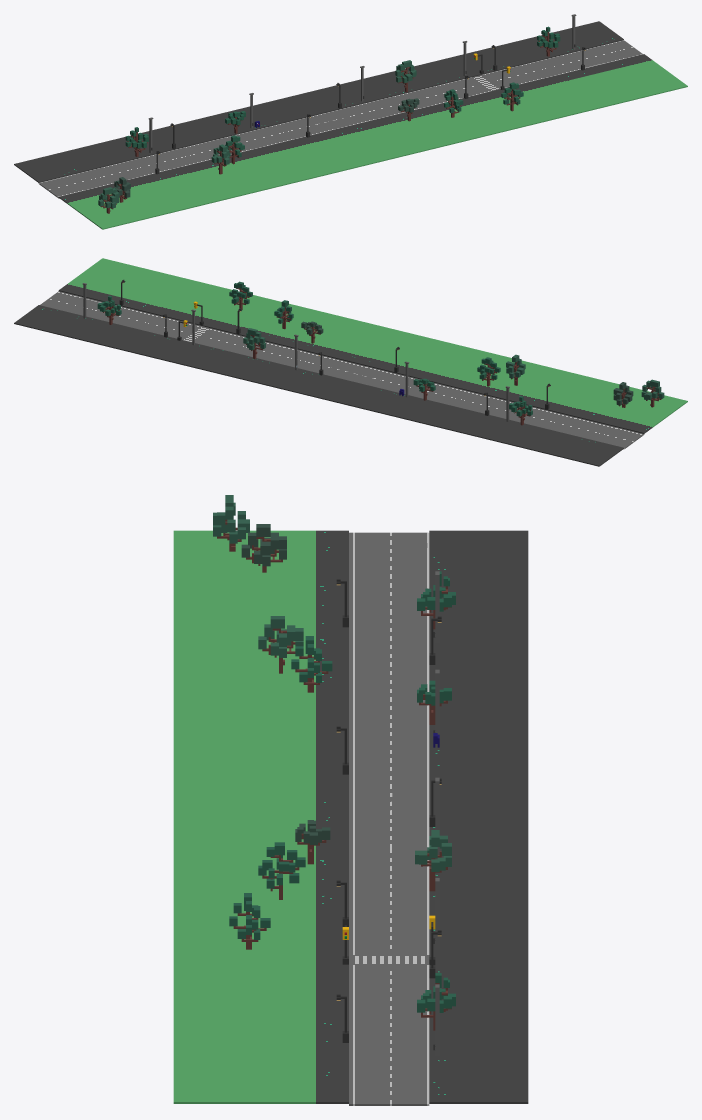
File: ground.glb
The picture shows the model from 3 angles, top to bottom: view 1: azimuth 30°, elevation 25°; view 2: azimuth 150°, elevation 25°; view 3: azimuth 270°, elevation 25°; orthographic projection. The views are drawn at different scales.
Parts seen in each view (by area): view 1: Union_150; view 2: Union_150; view 3: Union_150.
Part boxes in pixels (box(x1,y1,x2,y2)): Union_150: box(14, 14, 687, 229); Union_150: box(14, 258, 687, 466); Union_150: box(173, 495, 528, 1105).
Size of the model in its own units: 6.56 by 0.39 by 1.72.
Materials: 1 (1 with a texture image).
